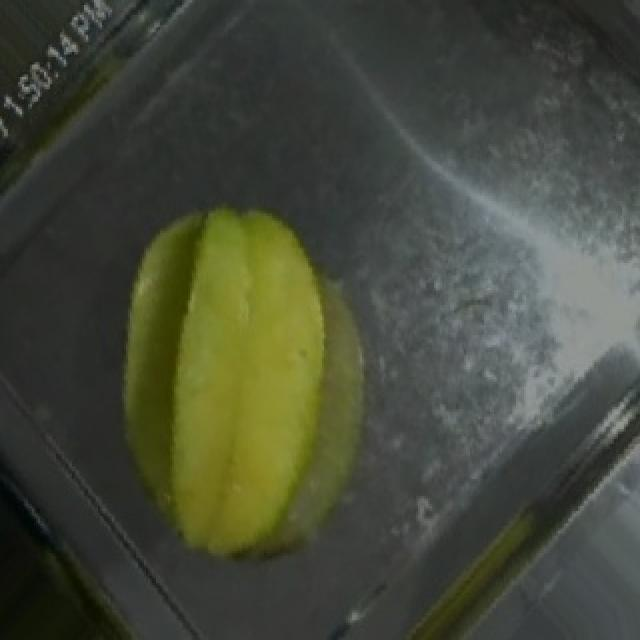fruit: (72, 168, 462, 638)
